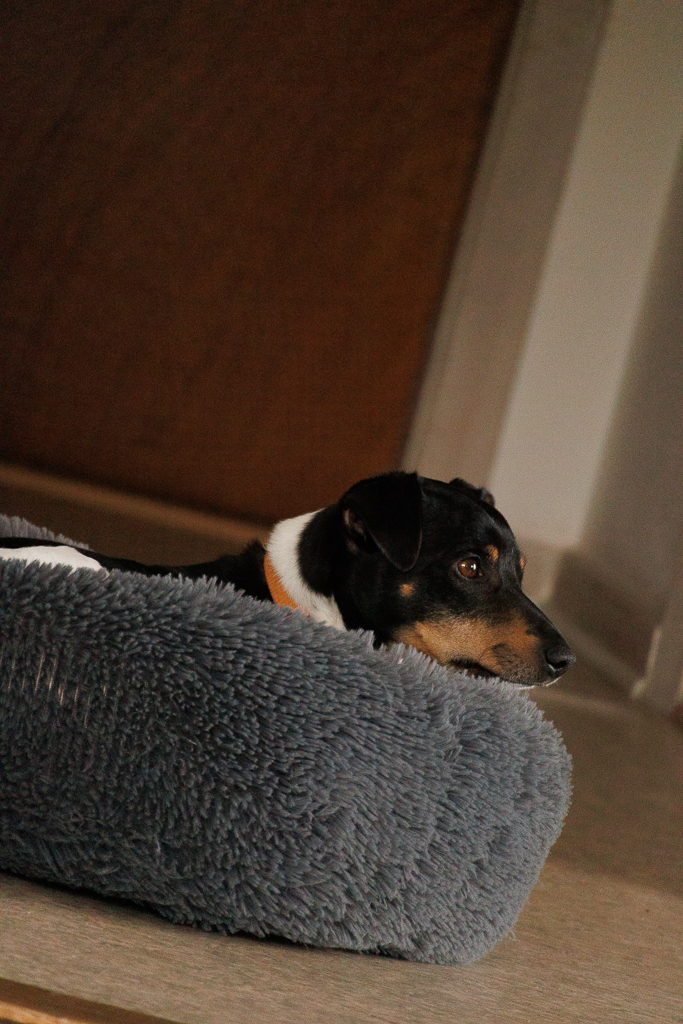Dog: (0, 465, 586, 706)
